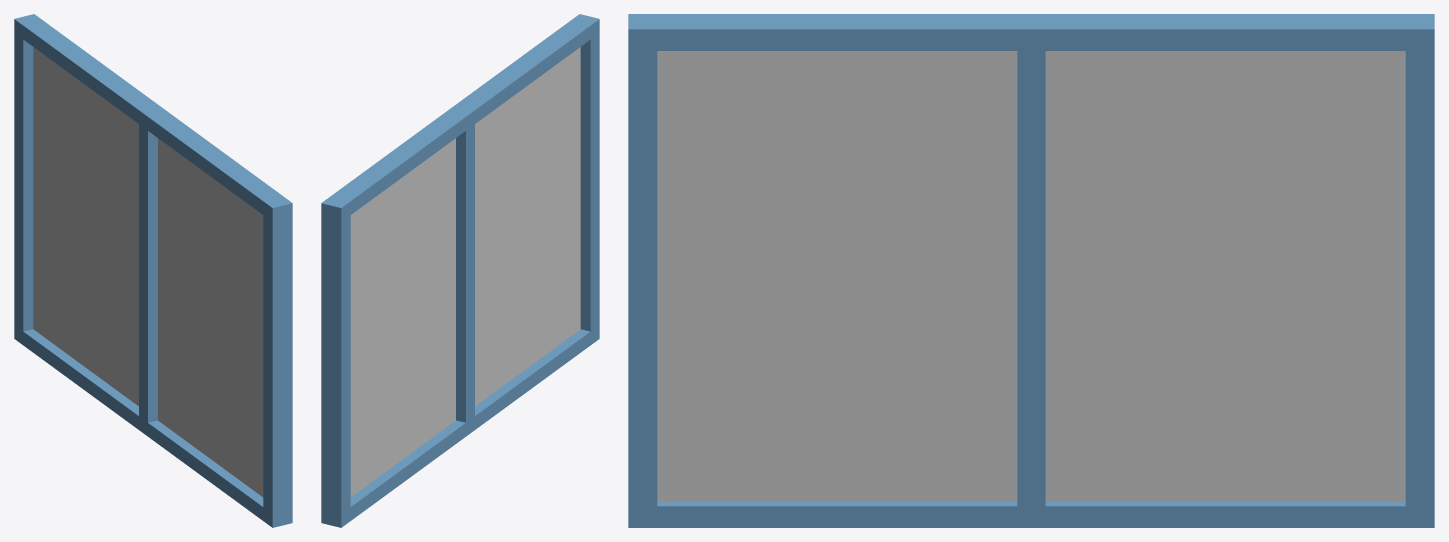
The model's file is G_p_fenster_groß1.fbx.
3 views of the same model, side by side, from view 1: azimuth 30°, elevation 25°; view 2: azimuth 150°, elevation 25°; view 3: azimuth 270°, elevation 25° (orthographic). The views are drawn at different scales.
Visible parts, largest first — view 1: Fenster.002; view 2: Fenster.002; view 3: Fenster.002.
Part boxes in pixels (box(x1,y1,x2,y2)): Fenster.002: box(14, 14, 292, 527); Fenster.002: box(321, 14, 599, 527); Fenster.002: box(628, 14, 1434, 527).
Size of the model in its own units: 10 by 152 by 222.
